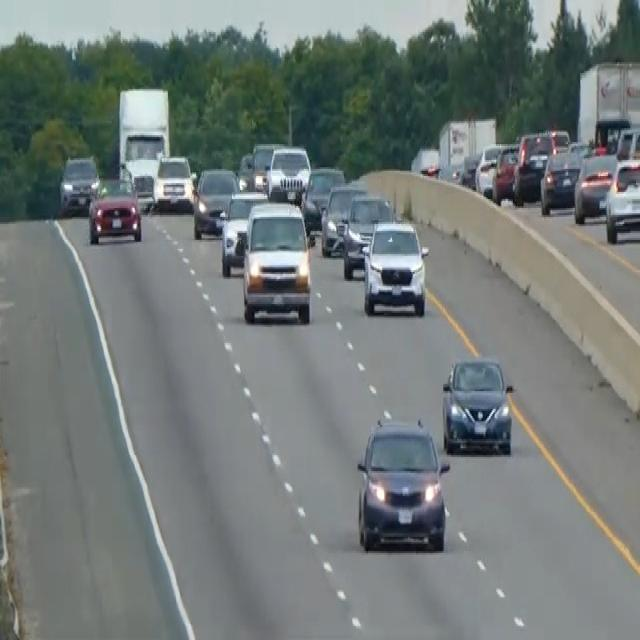car: (355, 412, 449, 553), (441, 354, 514, 455), (361, 217, 429, 316), (341, 192, 394, 279), (219, 188, 268, 276), (87, 174, 142, 244), (320, 180, 368, 256), (192, 164, 238, 238), (573, 150, 618, 222), (604, 154, 639, 242), (512, 130, 553, 204), (539, 146, 582, 215), (301, 164, 345, 231), (266, 144, 310, 203), (58, 153, 99, 215), (152, 153, 194, 211), (491, 142, 520, 203), (250, 140, 282, 192), (474, 142, 503, 196), (235, 151, 254, 192)
lorry: (116, 84, 171, 192)
minivan: (240, 198, 313, 326)
